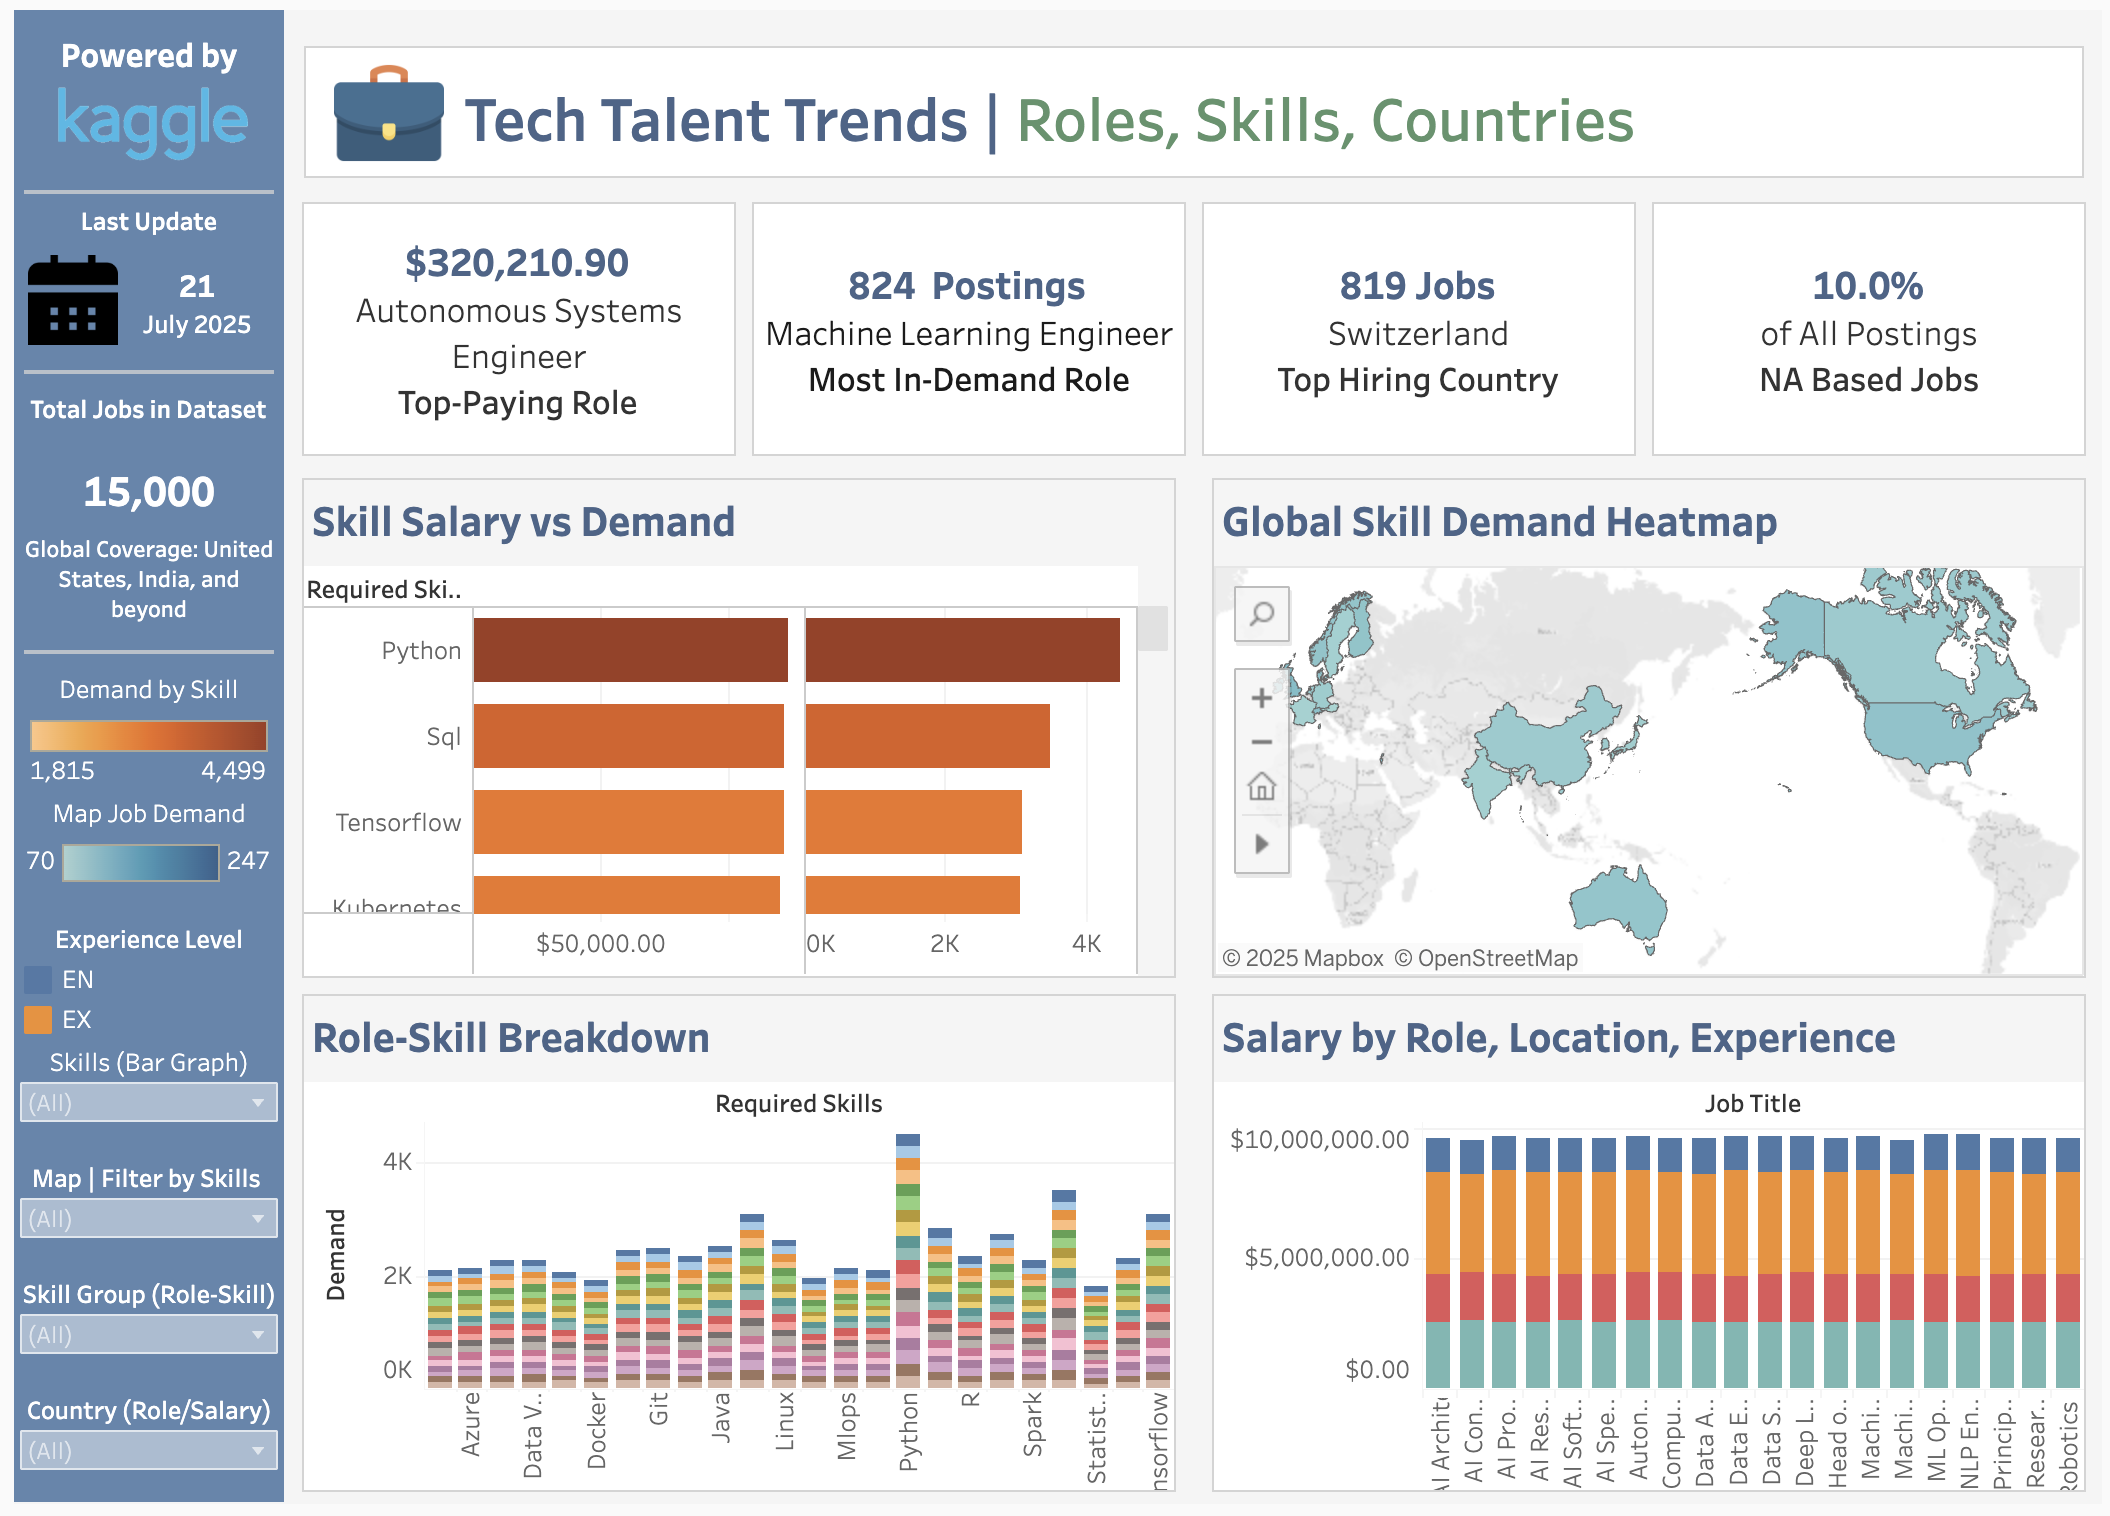

The dashboard page shown, as its layout file describes it:
{"tool":"tableau","page":{"name":"Tech Talent Overview","canvas":[1044,747],"ordinal":0},"visuals":[{"type":"blank","box":[0,0,1044,747]},{"type":"text","box":[0,0,135,37]},{"type":"image","param":"/Users/frdilla/Downloads/suitcase.png","box":[160,24,57,55]},{"type":"image","box":[22,28,95,58]},{"type":"text","box":[225,30,600,47]},{"type":"blank","box":[5,90,125,2]},{"type":"worksheet","title":"Top-Paying Role (KPI)","mark":"Text","box":[140,92,225,135]},{"type":"worksheet","title":"Most In-Demand Role (KPI)","mark":"Automatic","box":[365,92,225,135]},{"type":"worksheet","title":"Top Hiring Country (KPI)","mark":"Automatic","box":[590,92,225,135]},{"type":"worksheet","title":"D. Analyst (KPI)","mark":"Text","box":[815,92,225,135]},{"type":"text","box":[0,95,135,20]},{"type":"image","param":"/Users/frdilla/Downloads/calendar.png","box":[7,120,45,50]},{"type":"text","box":[60,126,63,40]},{"type":"blank","box":[5,180,125,2]},{"type":"worksheet","title":"Total Jobs","mark":"Automatic","box":[0,190,135,64]},{"type":"worksheet","title":"Skill Salary vs Demand","mark":"Automatic","rows":["required_skills"],"cols":["avg_salary","demand"],"box":[140,230,445,258]},{"type":"worksheet","title":"Global Skill Demand Heatmap","mark":"Multipolygon","box":[595,230,445,258]},{"type":"text","box":[5,258,125,51]},{"type":"blank","box":[5,320,125,2]},{"type":"legend","title":"Skill Salary vs Demand","param":"[federated.0udij5001oj1lu18a69jj09qm7zc].[sum:demand:qk]","box":[0,327,135,63.5]},{"type":"legend","title":"Global Skill Demand Heatmap","param":"[federated.0j1diyp03lv3g31ex0vv60t43lsn].[sum:demand:qk]","box":[0,390.5,135,63.5]},{"type":"legend","title":"Salary by Role, Location, Experience","param":"[federated.1vcwt9a1euofs3193391v1wydy1s].[none:experience_level:nk]","box":[0,454,135,61]},{"type":"worksheet","title":"Role-Skill Breakdown","mark":"Automatic","rows":["demand"],"cols":["required_skills"],"box":[140,488,445,257]},{"type":"worksheet","title":"Salary by Role, Location, Experience","mark":"Automatic","rows":["avg_salary_usd"],"cols":["job_title"],"box":[595,488,445,257]},{"type":"filter","title":"Skill Salary vs Demand","param":"[federated.0udij5001oj1lu18a69jj09qm7zc].[none:required_skills:nk]","box":[0,515,135,58]},{"type":"filter","title":"Global Skill Demand Heatmap","param":"[federated.0j1diyp03lv3g31ex0vv60t43lsn].[none:required_skills:nk]","box":[0,573,135,58]},{"type":"filter","title":"Role-Skill Breakdown","param":"[federated.0jkazrq0b8cxf51830fpt0vhl6cy].[none:Calculation_85920269963018240:nk]","box":[0,631,135,58]},{"type":"filter","title":"Salary by Role, Location, Experience","param":"[federated.1im222c0z3meu311ek5hm1wzcgp0].[none:company_location:nk]","box":[0,689,135,57]}]}

Visuals, with their boxes in screenshot pixels (x1, y1, x2, y2), scaled from the page's 1044x747 canvas onto the 2110x1516 screenshot:
blank: region(0, 0, 2109, 1515)
text: region(0, 0, 273, 75)
image: region(323, 49, 439, 160)
image: region(44, 57, 236, 175)
text: region(455, 61, 1667, 156)
blank: region(10, 183, 263, 187)
"Top-Paying Role (KPI)" worksheet (Text marks): region(283, 187, 738, 461)
"Most In-Demand Role (KPI)" worksheet: region(738, 187, 1192, 461)
"Top Hiring Country (KPI)" worksheet: region(1192, 187, 1647, 461)
"D. Analyst (KPI)" worksheet (Text marks): region(1647, 187, 2102, 461)
text: region(0, 193, 273, 233)
image: region(14, 244, 105, 345)
text: region(121, 256, 249, 337)
blank: region(10, 365, 263, 369)
"Total Jobs" worksheet: region(0, 386, 273, 515)
"Skill Salary vs Demand" worksheet: region(283, 467, 1182, 990)
"Global Skill Demand Heatmap" worksheet (Multipolygon marks): region(1203, 467, 2102, 990)
text: region(10, 524, 263, 627)
blank: region(10, 649, 263, 653)
"Skill Salary vs Demand" legend: region(0, 664, 273, 793)
"Global Skill Demand Heatmap" legend: region(0, 793, 273, 921)
"Salary by Role, Location, Experience" legend: region(0, 921, 273, 1045)
"Role-Skill Breakdown" worksheet: region(283, 990, 1182, 1512)
"Salary by Role, Location, Experience" worksheet: region(1203, 990, 2102, 1512)
"Skill Salary vs Demand" filter: region(0, 1045, 273, 1163)
"Global Skill Demand Heatmap" filter: region(0, 1163, 273, 1281)
"Role-Skill Breakdown" filter: region(0, 1281, 273, 1398)
"Salary by Role, Location, Experience" filter: region(0, 1398, 273, 1514)
